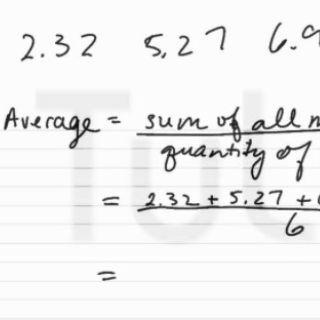.: (38, 52, 46, 58)
2: (16, 30, 36, 62), (79, 26, 98, 59), (178, 29, 195, 58)
3: (54, 31, 71, 59)
5: (141, 30, 163, 59)
6: (265, 20, 288, 57)
7: (202, 22, 229, 52)
